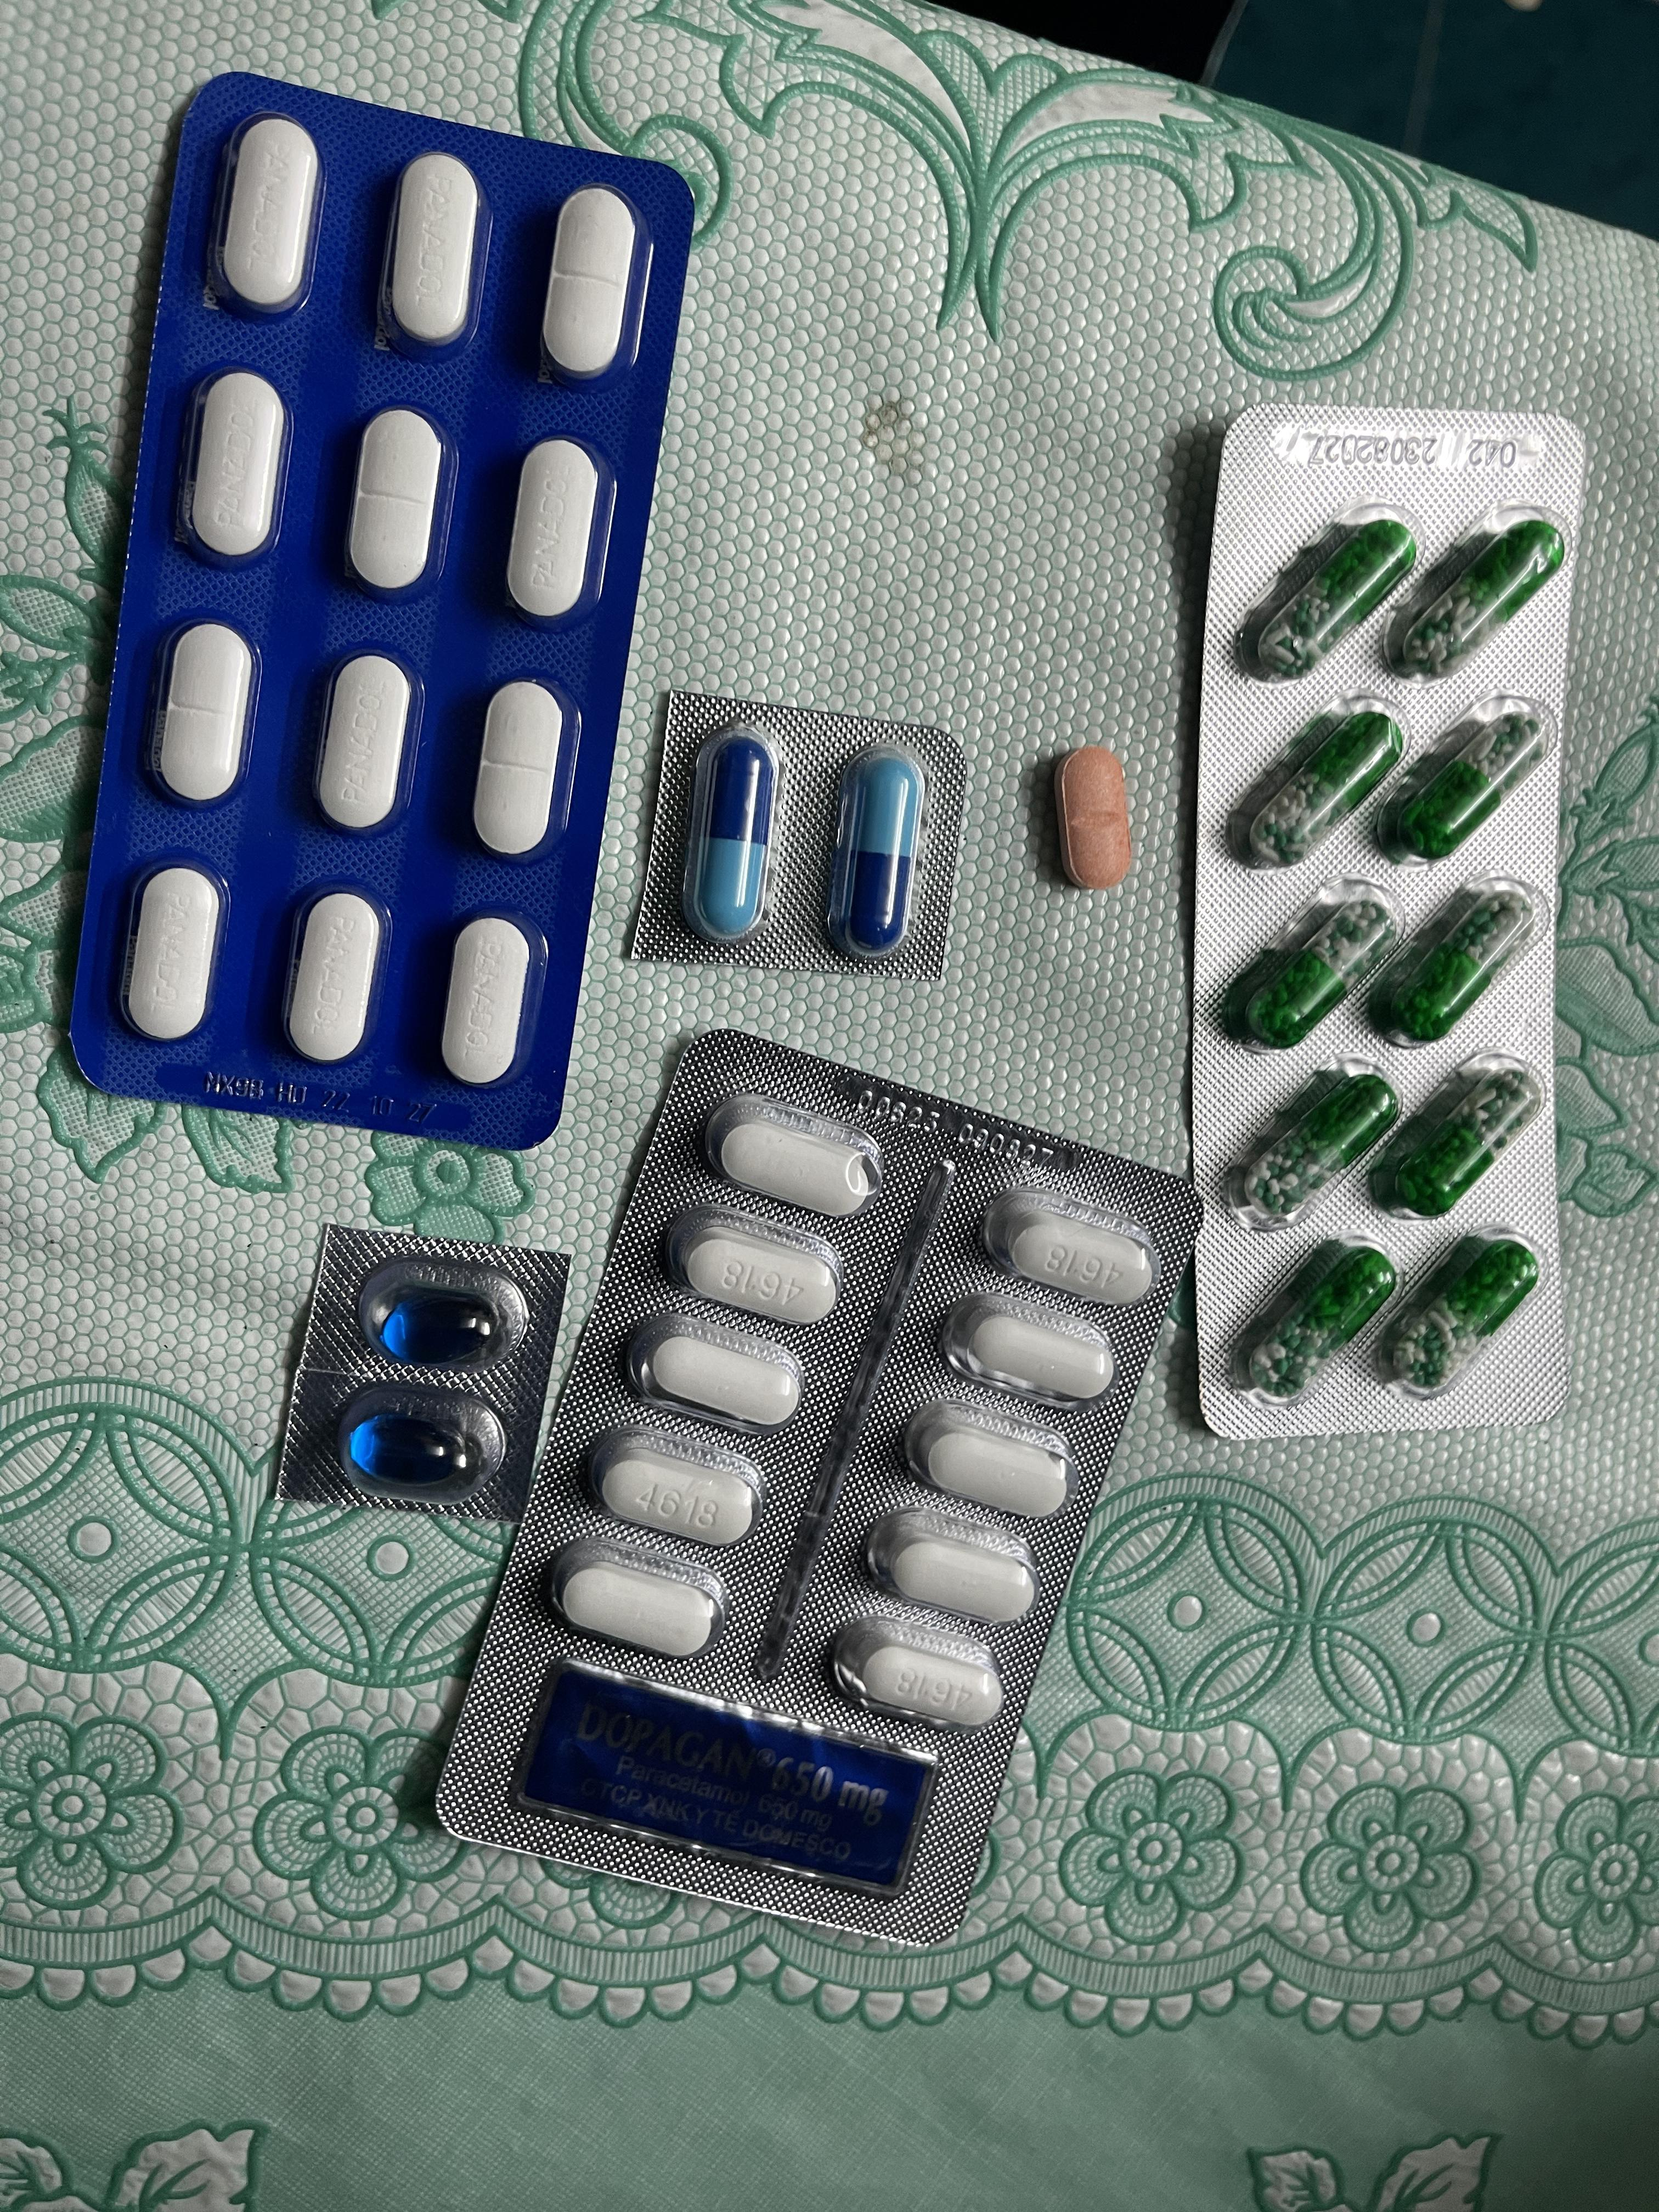Lincomyxin_500mg: (382, 1292, 505, 1369), (350, 1411, 472, 1487)
Loratadine_10mg: (1054, 747, 1131, 892)
Paracetamol_350mg: (211, 113, 324, 320), (179, 371, 289, 570), (382, 152, 484, 359), (542, 186, 643, 390), (146, 622, 258, 806), (343, 408, 450, 601), (505, 437, 608, 631), (119, 860, 227, 1043), (281, 885, 390, 1062), (310, 655, 418, 833), (474, 683, 570, 859), (441, 918, 537, 1089)
Paracetamol_500mg: (544, 1533, 728, 1665), (704, 1092, 890, 1214), (591, 1423, 772, 1547), (627, 1313, 807, 1432), (669, 1209, 847, 1327), (868, 1508, 1044, 1627), (906, 1406, 1079, 1522), (983, 1188, 1155, 1305), (833, 1615, 1006, 1731), (936, 1292, 1110, 1407)
Paracetamol_650mg: (1399, 519, 1567, 686), (1249, 711, 1405, 874), (1253, 519, 1415, 674), (1244, 1071, 1398, 1221), (1389, 888, 1534, 1047), (1391, 1066, 1542, 1216), (1396, 709, 1546, 859), (1244, 900, 1392, 1047), (1392, 1238, 1537, 1388), (1251, 1249, 1394, 1395)
pill: (824, 742, 932, 961), (685, 719, 786, 944)
